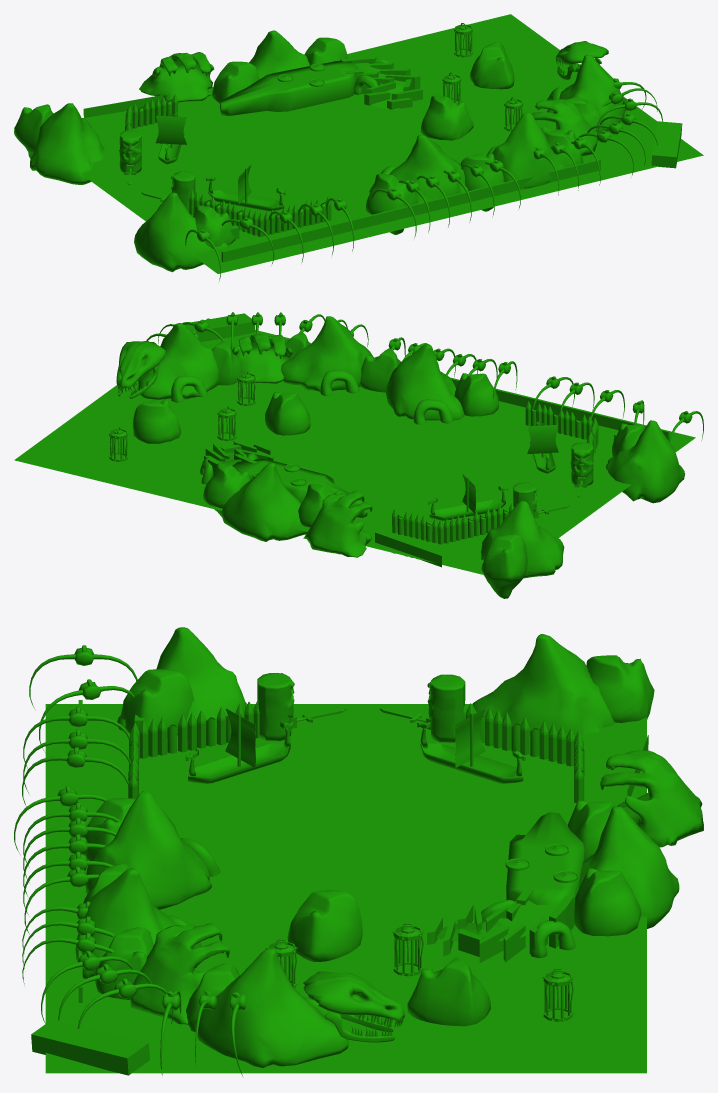
File: Map_Inner.fbx
The picture shows the model from 3 angles, top to bottom: view 1: azimuth 30°, elevation 25°; view 2: azimuth 150°, elevation 25°; view 3: azimuth 270°, elevation 25°; orthographic projection. The views are drawn at different scales.
Parts seen in each view (by area): view 1: Board, Stone_Platform_Usage, launcher_wall_2, Glacier_Chunk_Extra_Large_Usage1, Glacier_Chunk_Extra_Large_Usage2, Glacier_Chunk_Extra_Large_Usage4, Glacier_Claw_Usage1, Glacier_Chunk_Extra_Large_Usage3, Glacier_Chunk_Extra_Large_Usage5, Glacier_Chunk_Large_Usage7, Glacier_Chunk_Extra_Large_Usage, Glacier_Claw_Usage (+17 smaller); view 2: Board, Glacier_Chunk_Extra_Large_Usage, Glacier_Chunk_Extra_Large_Usage2, Glacier_Chunk_Extra_Large_Usage4, Glacier_Chunk_Extra_Large_Usage3, Glacier_Chunk_Extra_Large_Usage5, Glacier_Claw_Usage1, Glacier_Chunk_Extra_Large_Usage1, Glacier_Chunk_Large_Usage2, Glacier_Claw_Usage, Glacier_Chunk_Large_Usage8, UpperSkull (+18 smaller); view 3: Board, Glacier_Chunk_Extra_Large_Usage5, Glacier_Chunk_Extra_Large_Usage1, Glacier_Chunk_Extra_Large_Usage3, Glacier_Claw_Usage1, Glacier_Chunk_Extra_Large_Usage, Glacier_Claw_Usage, Stone_Platform_Usage, Glacier_Chunk_Large_Usage7, Glacier_Chunk_Extra_Large_Usage2, Glacier_Chunk_Large_Usage8, Slanted_Lancher_wall (+24 smaller).
Boxes of the visible parts, left/top/right/bottom form: Board: left=81, top=14, right=703, bottom=273; Stone_Platform_Usage: left=220, top=61, right=358, bottom=115; launcher_wall_2: left=221, top=159, right=600, bottom=262; Glacier_Chunk_Extra_Large_Usage1: left=30, top=103, right=104, bottom=184; Glacier_Chunk_Extra_Large_Usage2: left=134, top=192, right=228, bottom=272; Glacier_Chunk_Extra_Large_Usage4: left=492, top=112, right=566, bottom=188; Glacier_Claw_Usage1: left=139, top=52, right=213, bottom=102; Glacier_Chunk_Extra_Large_Usage3: left=389, top=135, right=468, bottom=203; Glacier_Chunk_Extra_Large_Usage5: left=546, top=54, right=626, bottom=131; Glacier_Chunk_Large_Usage7: left=421, top=95, right=473, bottom=140; Glacier_Chunk_Extra_Large_Usage: left=249, top=30, right=309, bottom=78; Glacier_Claw_Usage: left=532, top=99, right=598, bottom=156; Board: left=14, top=318, right=695, bottom=575; Glacier_Chunk_Extra_Large_Usage: left=221, top=462, right=307, bottom=541; Glacier_Chunk_Extra_Large_Usage2: left=606, top=420, right=685, bottom=503; Glacier_Chunk_Extra_Large_Usage4: left=281, top=316, right=373, bottom=391; Glacier_Chunk_Extra_Large_Usage3: left=386, top=344, right=464, bottom=420; Glacier_Chunk_Extra_Large_Usage5: left=138, top=323, right=218, bottom=399; Glacier_Claw_Usage1: left=303, top=490, right=372, bottom=557; Glacier_Chunk_Extra_Large_Usage1: left=481, top=500, right=564, bottom=578; Glacier_Chunk_Large_Usage2: left=481, top=534, right=527, bottom=598; Glacier_Claw_Usage: left=232, top=334, right=292, bottom=383; Glacier_Chunk_Large_Usage8: left=133, top=399, right=180, bottom=443; UpperSkull: left=116, top=340, right=166, bottom=393; Board: left=45, top=704, right=646, bottom=1073; Glacier_Chunk_Extra_Large_Usage5: left=194, top=948, right=348, bottom=1067; Glacier_Chunk_Extra_Large_Usage1: left=472, top=634, right=615, bottom=736; Glacier_Chunk_Extra_Large_Usage3: left=85, top=791, right=211, bottom=909; Glacier_Claw_Usage1: left=600, top=750, right=703, bottom=847; Glacier_Chunk_Extra_Large_Usage: left=579, top=806, right=679, bottom=928; Glacier_Claw_Usage: left=130, top=923, right=229, bottom=1024; Stone_Platform_Usage: left=506, top=812, right=584, bottom=909; Glacier_Chunk_Large_Usage7: left=287, top=890, right=362, bottom=961; Glacier_Chunk_Extra_Large_Usage2: left=117, top=627, right=246, bottom=735; Glacier_Chunk_Large_Usage8: left=407, top=957, right=490, bottom=1026; Slanted_Lancher_wall: left=31, top=1019, right=149, bottom=1075.
Bounding box in the file's own units: 4774 × 737 × 3553.
